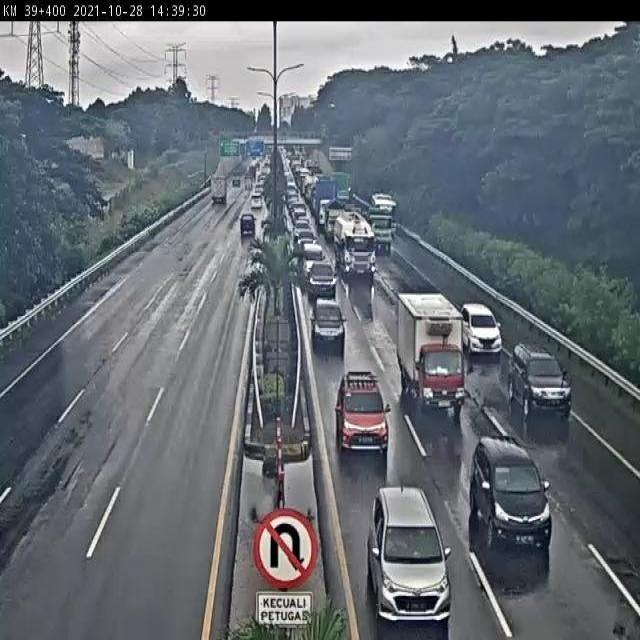ARABA: (367, 488, 455, 632), (470, 433, 555, 560), (334, 364, 394, 453), (505, 346, 569, 422), (337, 364, 389, 451), (465, 304, 509, 352), (313, 300, 351, 341), (308, 260, 334, 288), (238, 212, 260, 244)
KAMYONET: (402, 291, 471, 409), (211, 170, 230, 202)
TIR: (336, 208, 378, 283)
